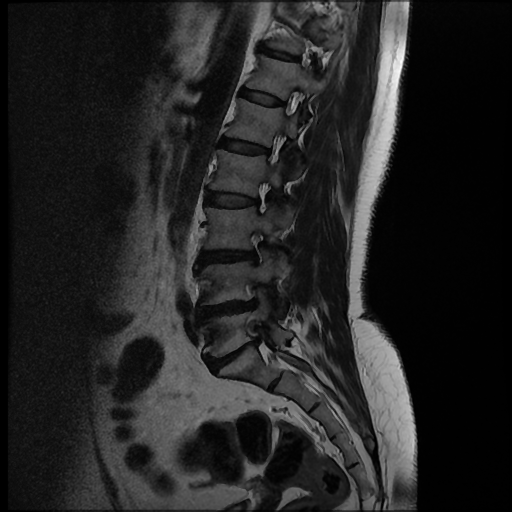LFS0: (255, 123, 293, 171)
LFS1: (241, 171, 278, 221)
LFS2: (236, 224, 274, 273)
